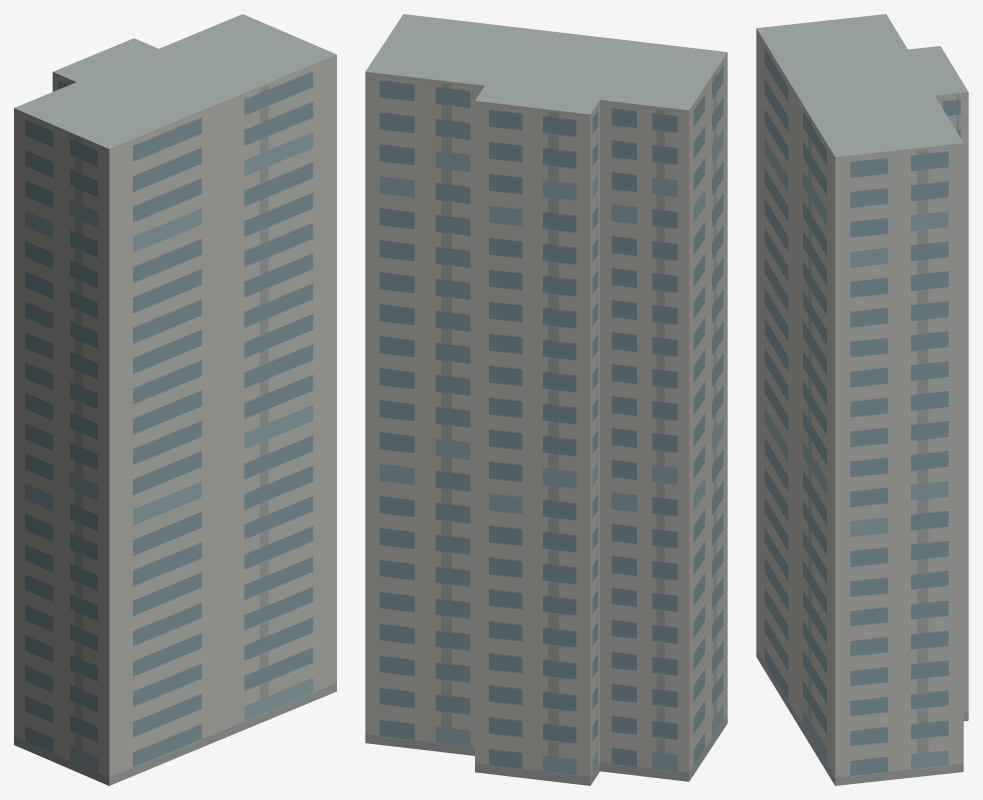
File: residential-05de9969-10e1-4587-b982-47a95760a7cc.glb
3 views of the same model, side by side, from view 1: azimuth 30°, elevation 25°; view 2: azimuth 150°, elevation 25°; view 3: azimuth 270°, elevation 25° (orthographic). The views are drawn at different scales.
Visible parts, largest first — view 1: residential-05de9969-10e1-4587-b982-47a95760a7cc.tmp; view 2: residential-05de9969-10e1-4587-b982-47a95760a7cc.tmp; view 3: residential-05de9969-10e1-4587-b982-47a95760a7cc.tmp.
Part boxes in pixels (left/top/right/bottom): residential-05de9969-10e1-4587-b982-47a95760a7cc.tmp: left=14, top=14, right=336, bottom=785; residential-05de9969-10e1-4587-b982-47a95760a7cc.tmp: left=365, top=14, right=727, bottom=785; residential-05de9969-10e1-4587-b982-47a95760a7cc.tmp: left=756, top=14, right=968, bottom=785.
Size of the model in its own units: 32.22 by 66 by 20.18.
